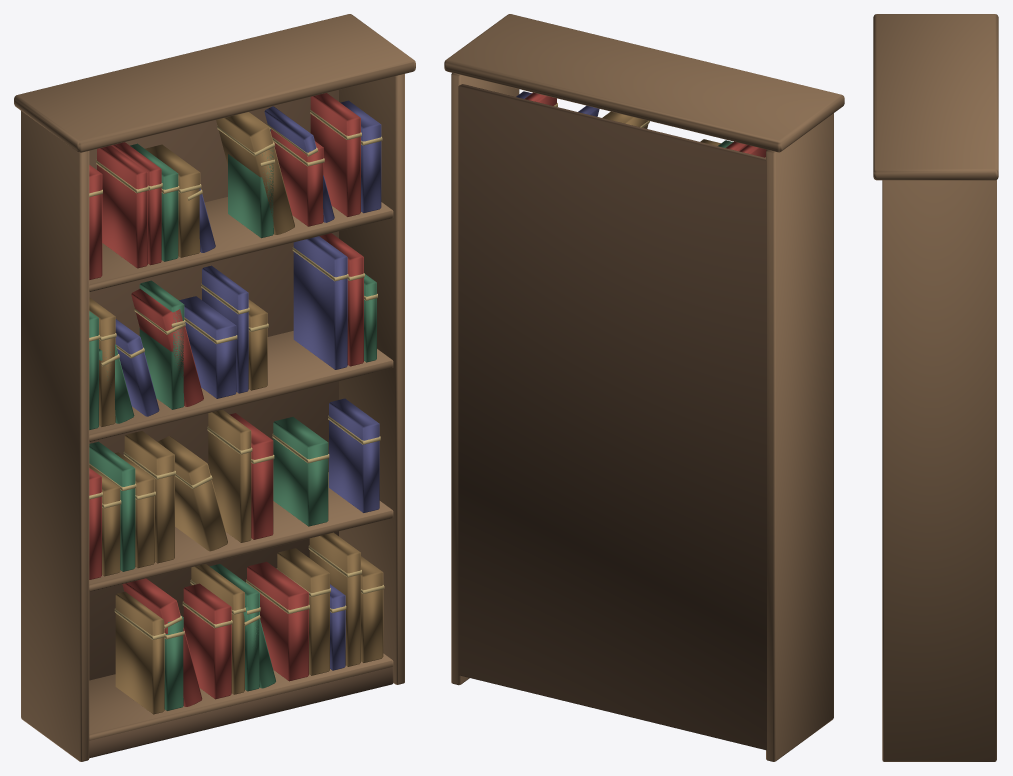
File: bookshelf.glb
3 views of the same model, side by side, from view 1: azimuth 30°, elevation 25°; view 2: azimuth 150°, elevation 25°; view 3: azimuth 270°, elevation 25° (orthographic). The views are drawn at different scales.
Parts seen in each view (by area): view 1: bookshelf_mesh; view 2: bookshelf_mesh; view 3: bookshelf_mesh.
Part boxes in pixels (<box>): bookshelf_mesh: <box>14,14,415,761</box>; bookshelf_mesh: <box>444,14,844,761</box>; bookshelf_mesh: <box>873,14,998,761</box>.
Size of the model in its own units: 1.04 by 1.84 by 0.35.
